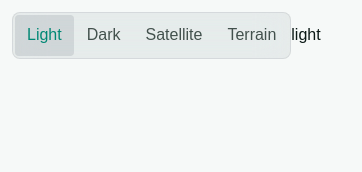
Test: REQ-ME-002 · BasemapSwitcher › clicking a radio updates basemapAtom and flips aria-checked
The image size is (362, 172).
Click the radio button labelled "Satellite".
click(174, 35)  # box left=134, top=15, right=214, bottom=56
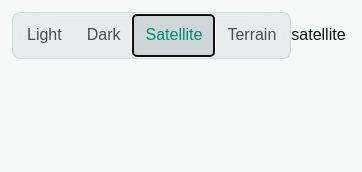
Check: the text with test id "active" reads "satellite", box left=291, top=26, right=346, bottom=43
